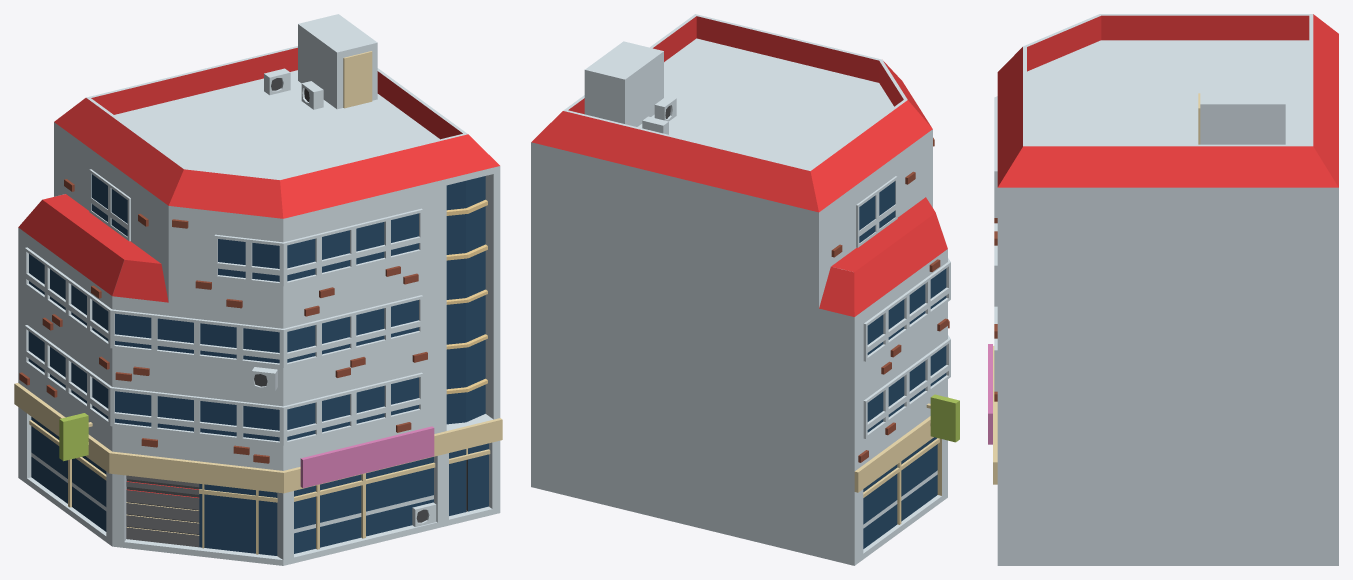
Rendered from Building_Store1_ComplexTex_MAX.fbx.
3 renders of one model, left to right at view 1: azimuth 30°, elevation 25°; view 2: azimuth 150°, elevation 25°; view 3: azimuth 270°, elevation 25°, orthographic. The views are drawn at different scales.
Parts seen in each view (by area): view 1: Building_Store1_Complex1, signsBig1, Brick_Deco1, signs4, Airconditioner7; view 2: Building_Store1_Complex1, signs4, Brick_Deco1; view 3: Building_Store1_Complex1, signsBig1.
Part boxes in pixels (<box>): Building_Store1_Complex1: <box>14,14,502,565</box>; signsBig1: <box>300,426,434,488</box>; Brick_Deco1: <box>19,179,427,463</box>; signs4: <box>59,413,92,461</box>; Airconditioner7: <box>264,68,290,95</box>; Building_Store1_Complex1: <box>531,14,950,565</box>; signs4: <box>926,394,959,442</box>; Brick_Deco1: <box>831,137,949,462</box>; Building_Store1_Complex1: <box>993,14,1338,565</box>; signsBig1: <box>988,344,992,444</box>.
Bounding box in the file's own units: 517 × 405 × 568.
